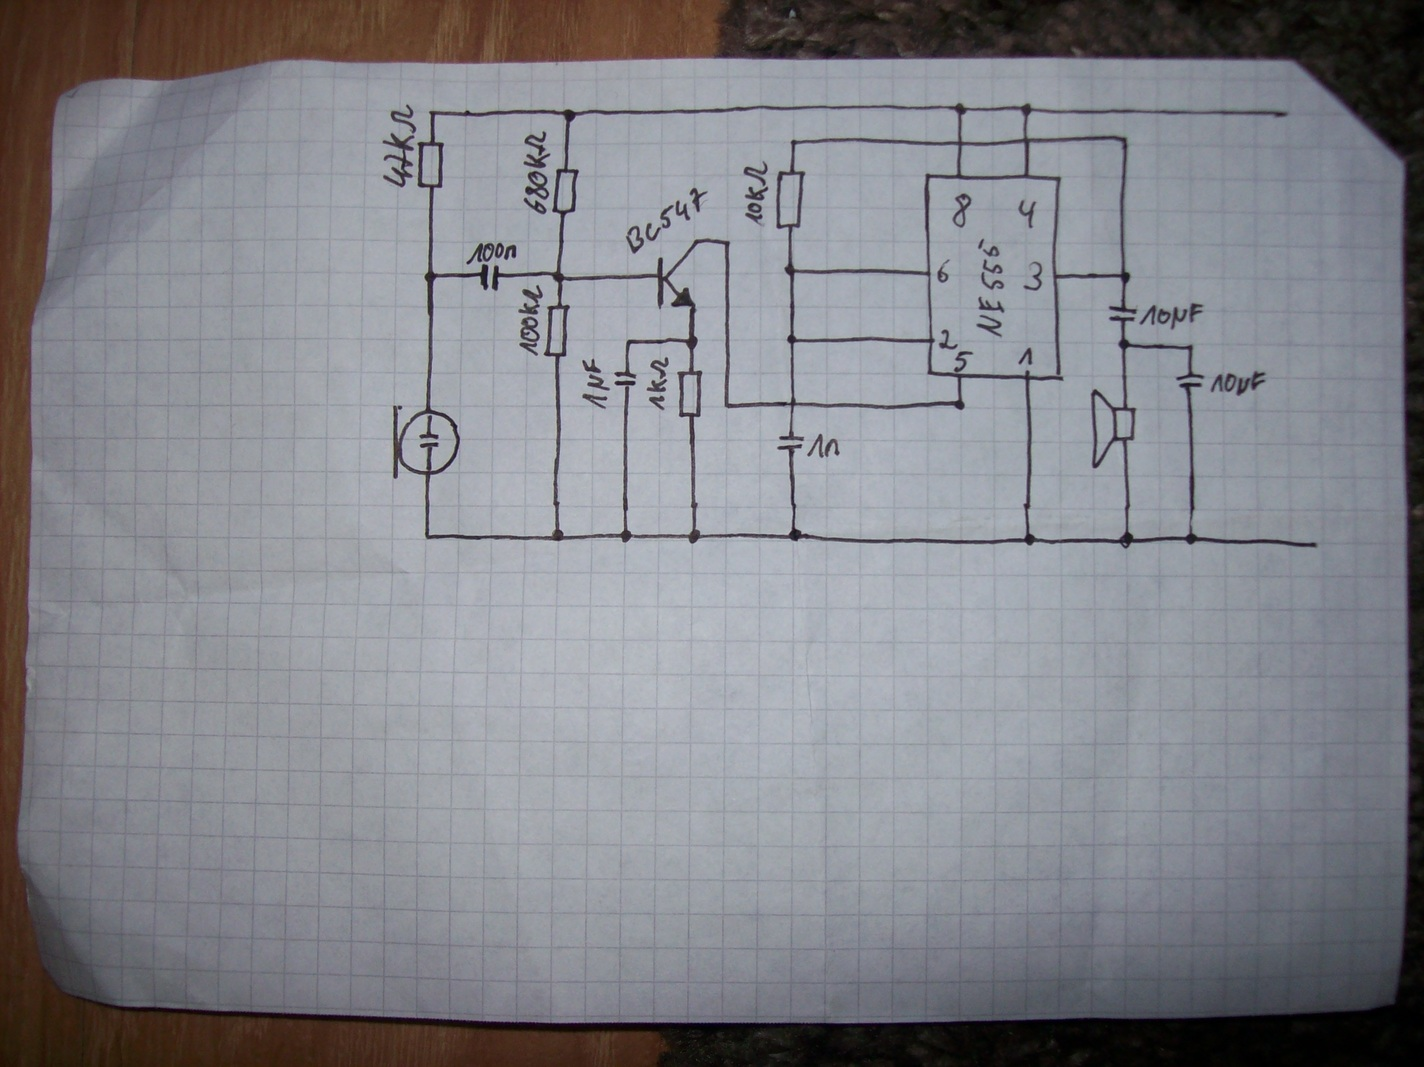capacitor.unpolarized: (1106, 303, 1138, 324), (478, 263, 502, 293), (1175, 371, 1206, 390), (776, 432, 806, 451), (613, 369, 637, 389)
crossover: (951, 134, 970, 152), (782, 395, 802, 411), (1017, 133, 1036, 148)
integrated_cricuit.ne555: (920, 170, 1068, 386)
junction: (421, 267, 441, 288), (559, 104, 579, 126), (548, 268, 570, 287), (1117, 530, 1135, 551), (683, 333, 701, 352), (1181, 531, 1200, 548), (687, 527, 702, 547), (787, 527, 804, 544), (550, 527, 567, 544), (1021, 532, 1037, 549), (1017, 102, 1035, 118), (782, 261, 799, 277), (618, 529, 634, 546), (952, 396, 967, 414), (1116, 337, 1132, 353), (426, 105, 441, 121), (419, 530, 436, 545), (1183, 341, 1199, 355), (1117, 269, 1132, 285), (952, 101, 967, 117), (1117, 132, 1130, 148), (622, 335, 635, 350), (785, 332, 798, 347), (722, 236, 735, 250), (787, 136, 799, 150), (722, 399, 732, 411)
microphone: (391, 402, 462, 480)
resistor: (773, 168, 808, 231), (543, 303, 573, 359), (674, 367, 705, 420), (416, 139, 447, 191), (551, 166, 581, 216)
speaker: (1089, 387, 1138, 468)
terminal: (1273, 104, 1295, 126), (1303, 535, 1324, 555)
text: (624, 186, 708, 256), (974, 236, 1007, 338), (381, 103, 417, 188), (522, 130, 551, 215), (1138, 300, 1204, 331), (516, 282, 543, 356), (742, 159, 769, 225), (1208, 369, 1268, 398), (581, 358, 611, 411), (645, 356, 670, 412), (465, 241, 519, 265), (806, 432, 841, 460), (950, 192, 972, 229), (1021, 259, 1045, 293), (1016, 198, 1037, 230), (951, 349, 974, 373), (936, 328, 958, 351), (936, 258, 952, 282), (1017, 346, 1034, 368)
transistor: (655, 238, 701, 312)
